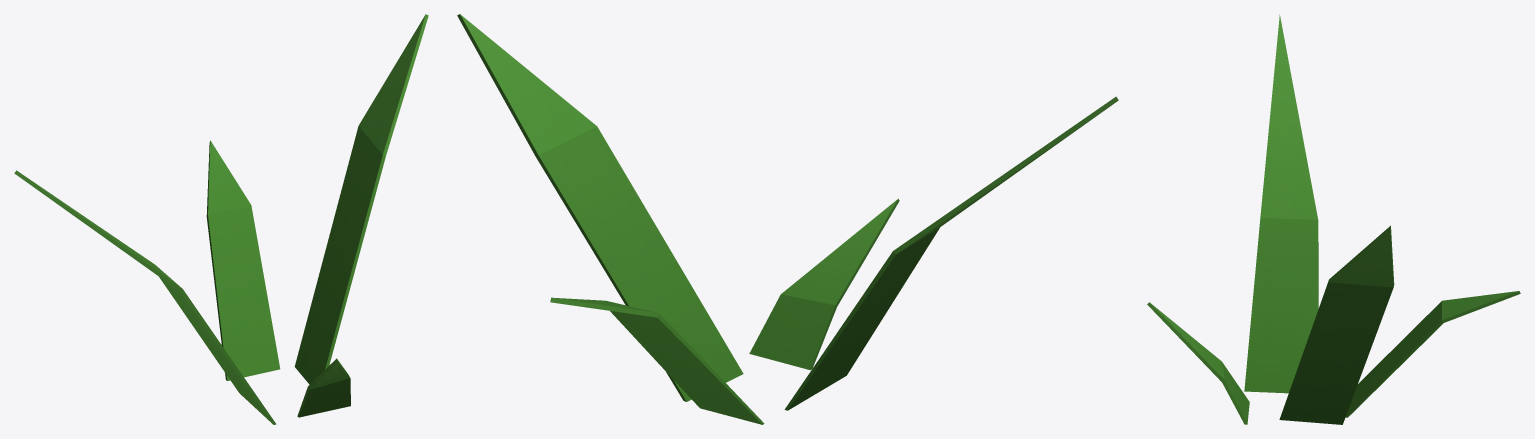
The model's file is grass_patch_04_solidified.fbx.
The picture shows the model from 3 angles, left to right: view 1: azimuth 30°, elevation 25°; view 2: azimuth 150°, elevation 25°; view 3: azimuth 270°, elevation 25°; orthographic projection. The views are drawn at different scales.
Parts seen in each view (by area): view 1: grass_patch_04_solidified; view 2: grass_patch_04_solidified; view 3: grass_patch_04_solidified.
Boxes of the visible parts, x1,y1,x2,y2 form: grass_patch_04_solidified: [14, 14, 428, 424]; grass_patch_04_solidified: [457, 14, 1118, 424]; grass_patch_04_solidified: [1147, 14, 1520, 424].
Bounding box in the file's own units: 1 × 0.6 × 0.75.
Materials: 1 (1 with a texture image).
